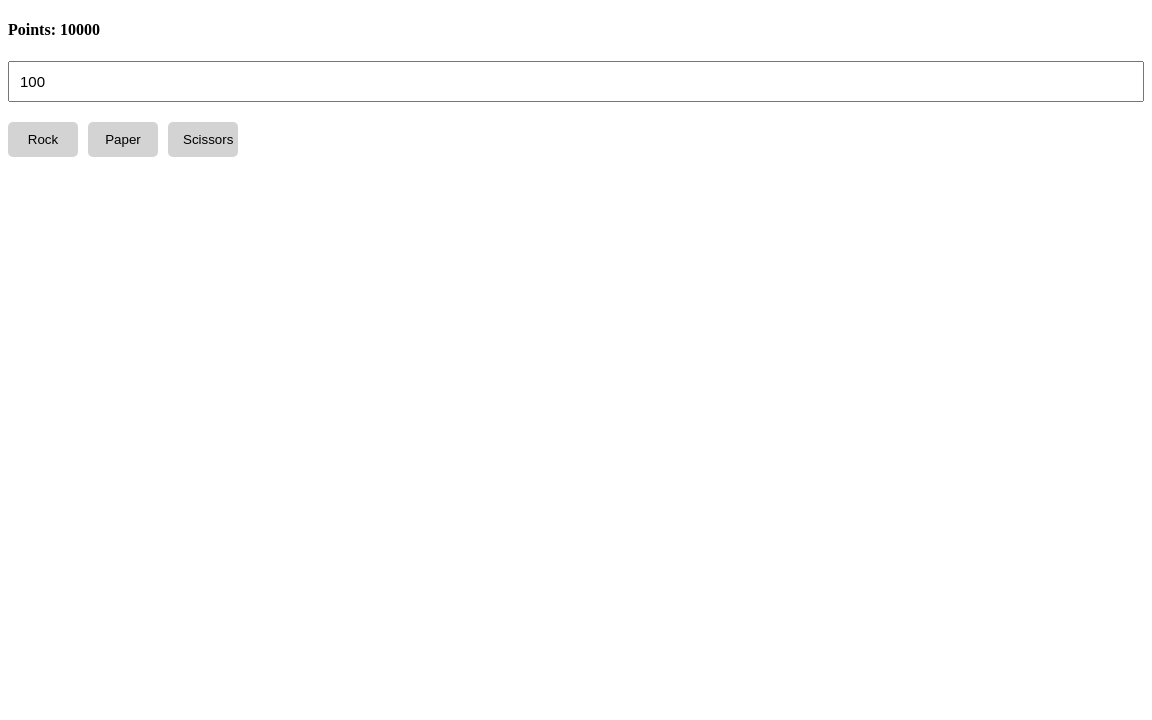
Rock-Paper-Scissors Component › displays correct game-result-message when player wins/draws/loses with Rock
Replace the text in the number field with test id "Bet-Amount" with "1000" at (576, 81), box [8, 60, 1144, 102]
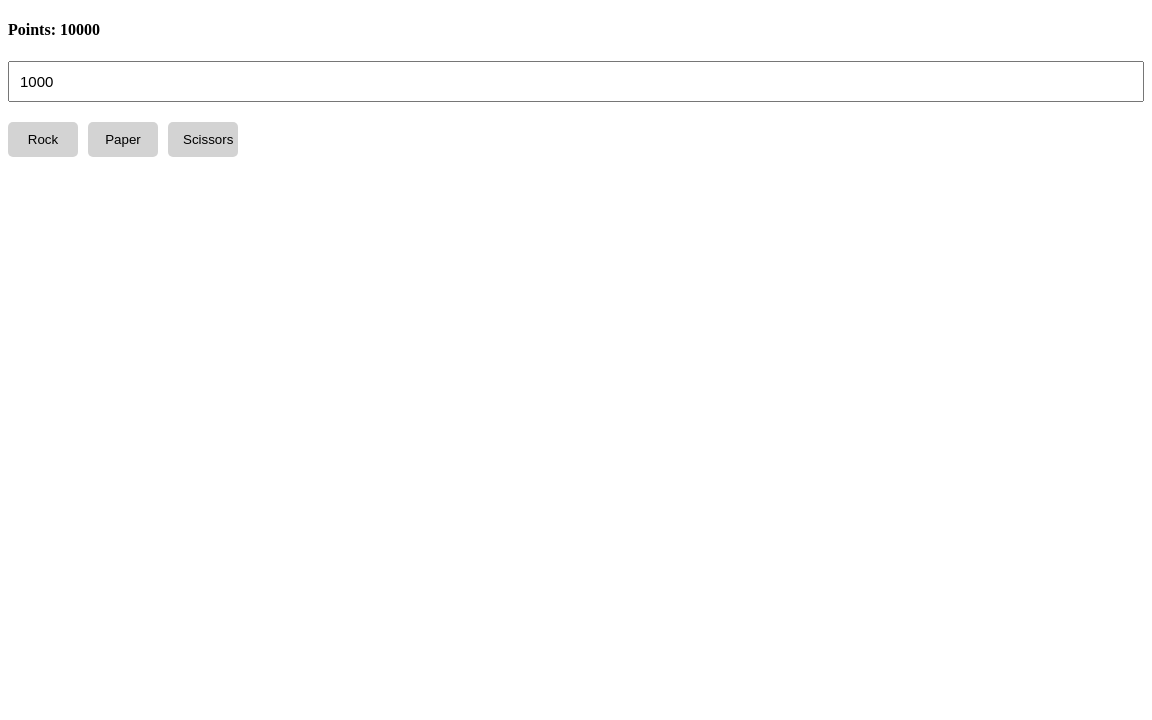
Click the button "Rock" at (43, 139), box [8, 122, 78, 156]
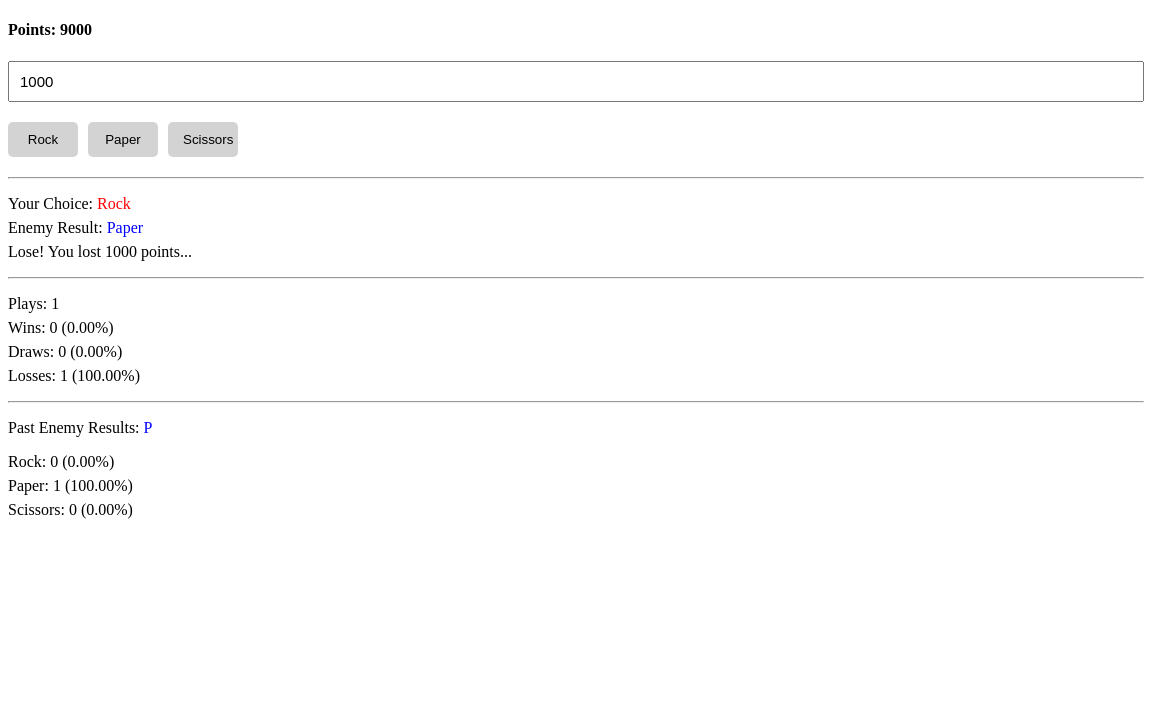
expect the text "Lose! You lost 1000 points..." is shown: met, box [8, 242, 192, 260]
